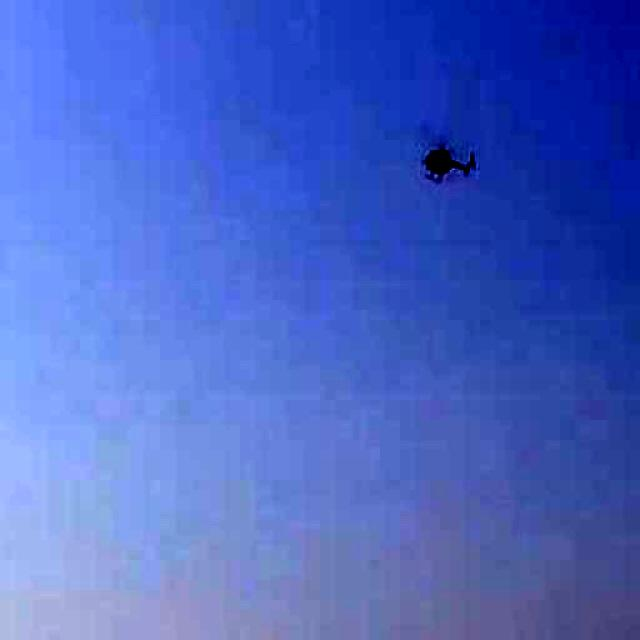drone: (386, 92, 496, 226)
